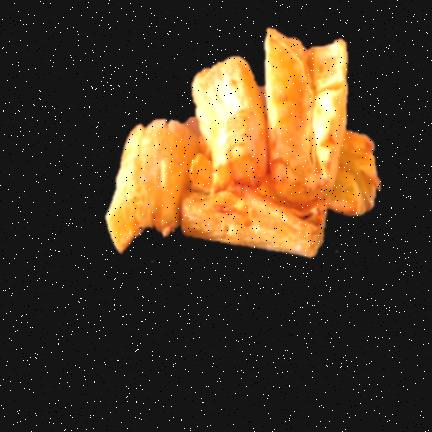cassava: (107, 30, 379, 256)
